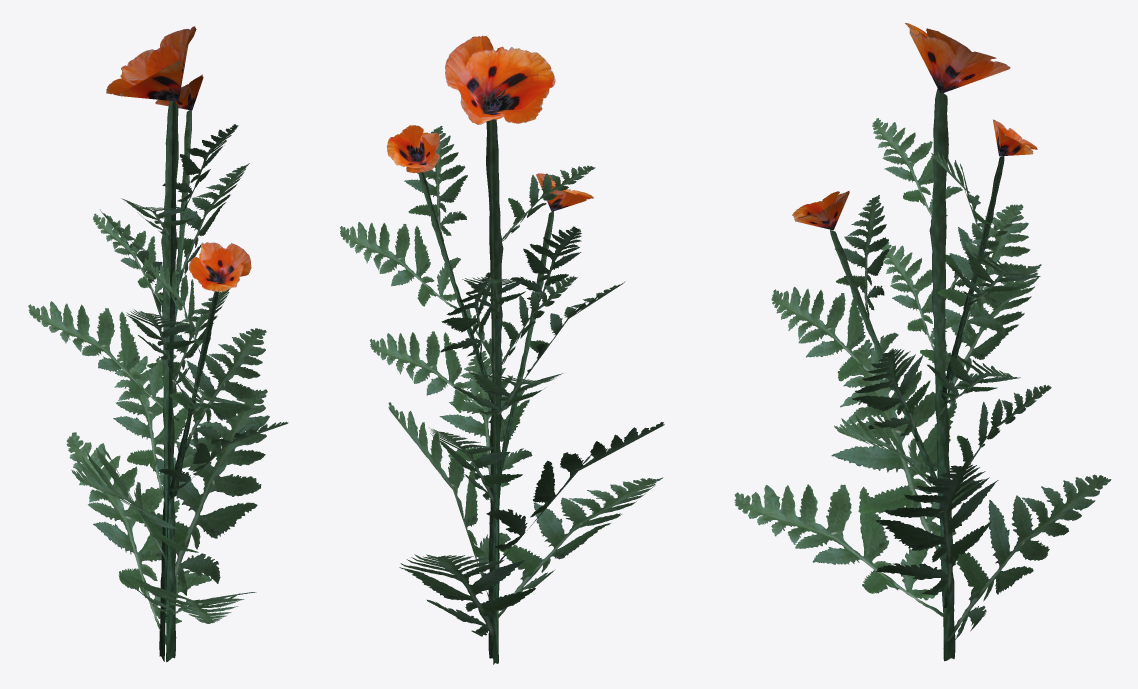
The model's file is Flower_07.fbx.
3 renders of one model, left to right at view 1: azimuth 30°, elevation 25°; view 2: azimuth 150°, elevation 25°; view 3: azimuth 270°, elevation 25°, orthographic. The views are drawn at different scales.
Visible parts, largest first — view 1: Flower_07; view 2: Flower_07; view 3: Flower_07.
Part boxes in pixels (left/top/right/bottom): Flower_07: left=28, top=26, right=288, bottom=662; Flower_07: left=340, top=35, right=664, bottom=664; Flower_07: left=734, top=23, right=1111, bottom=661.
Bounding box in the file's own units: 0.5187 × 1.18 × 0.6549.
